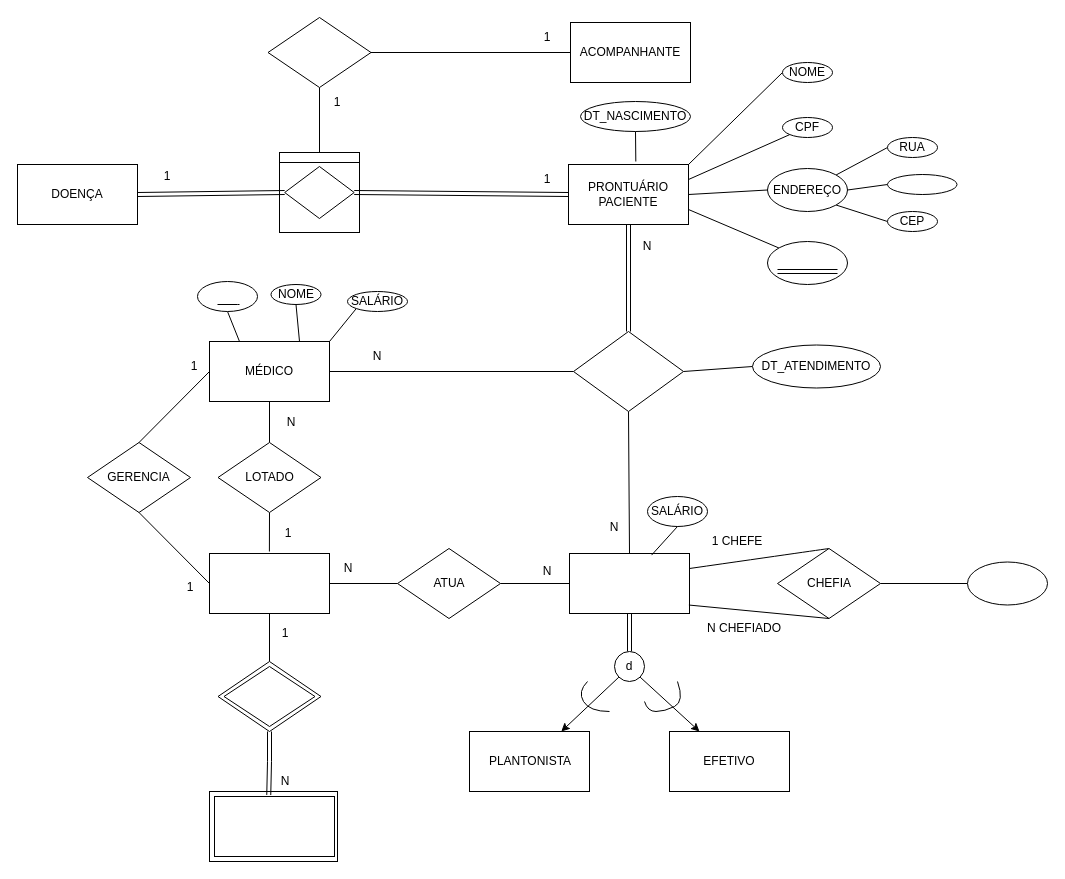
The diagram is 1065 pixels wide and 879 high, and some of its shapes have lost their labels. The shapes that lost their labels are listed below. From the top down, each one's centre as x and y in pixels, then its label:
At pixel 319 52: "ACOMPANHA".
At pixel 319 192: "POSSUI".
At pixel 921 184: "NÚMERO".
At pixel 807 262: "TELEFONE".
At pixel 227 296: "CRM".
At pixel 628 371: "ATENDIMENTO".
At pixel 269 583: "DEPARTAMENTO".
At pixel 629 583: "ENFERMEIRO".
At pixel 1007 583: "DT_INICIO".
At pixel 269 696: "TEM".
At pixel 274 826: "LEITO".
